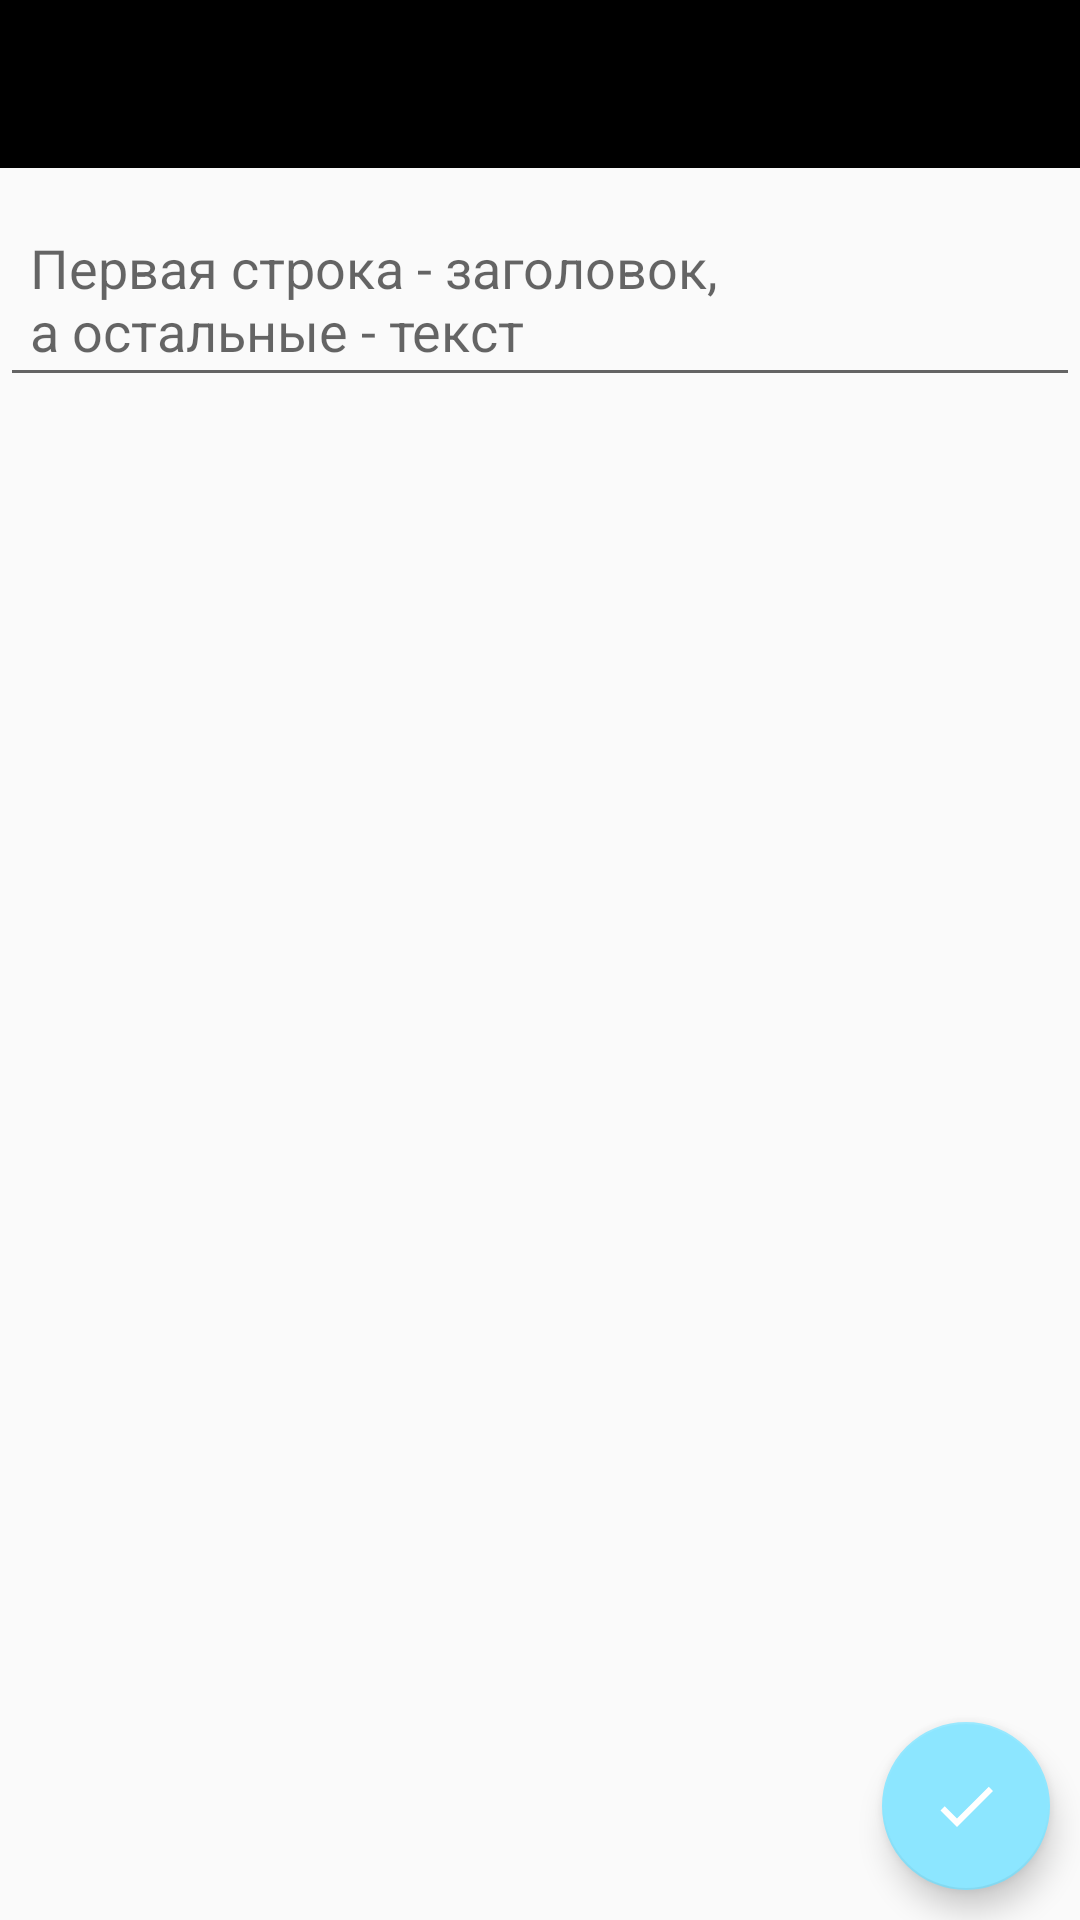

Named icons in this screenshot (1080×1920) and their bounding boxes, (x1, y1, x2, y2):
tick: (882, 1722, 1050, 1890)
